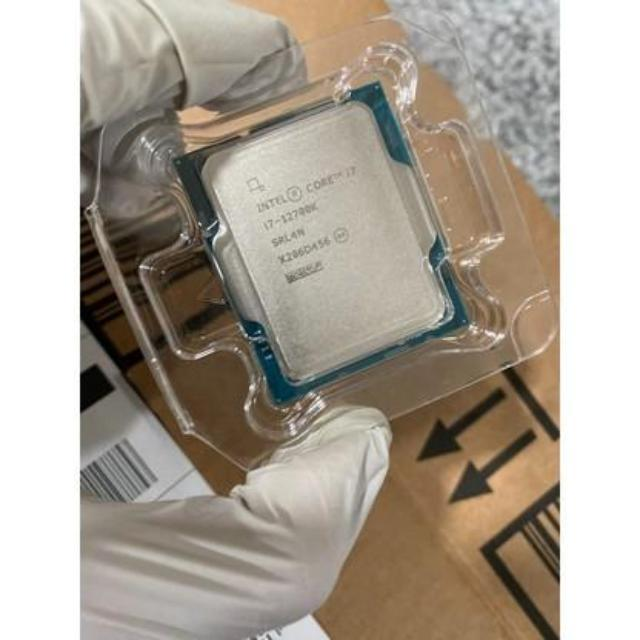CPU: (184, 100, 458, 383)
